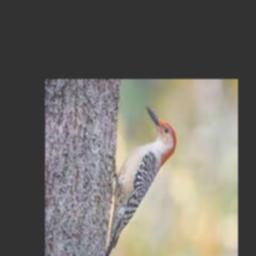Woodpecker: (102, 106, 177, 256)
